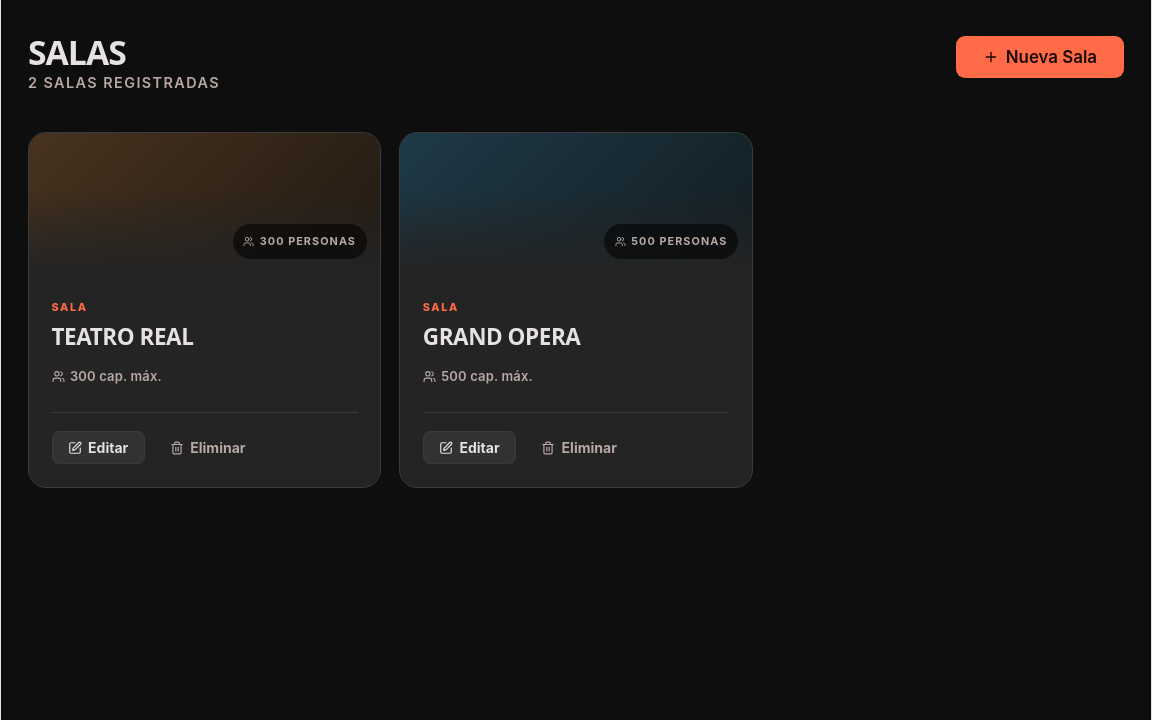
Test case: RoomsAdminPage › shows delete confirmation when delete button is clicked
Click the button titled "Eliminar sala" below "Teatro Real" at point(208, 448), box [154,431,262,464]
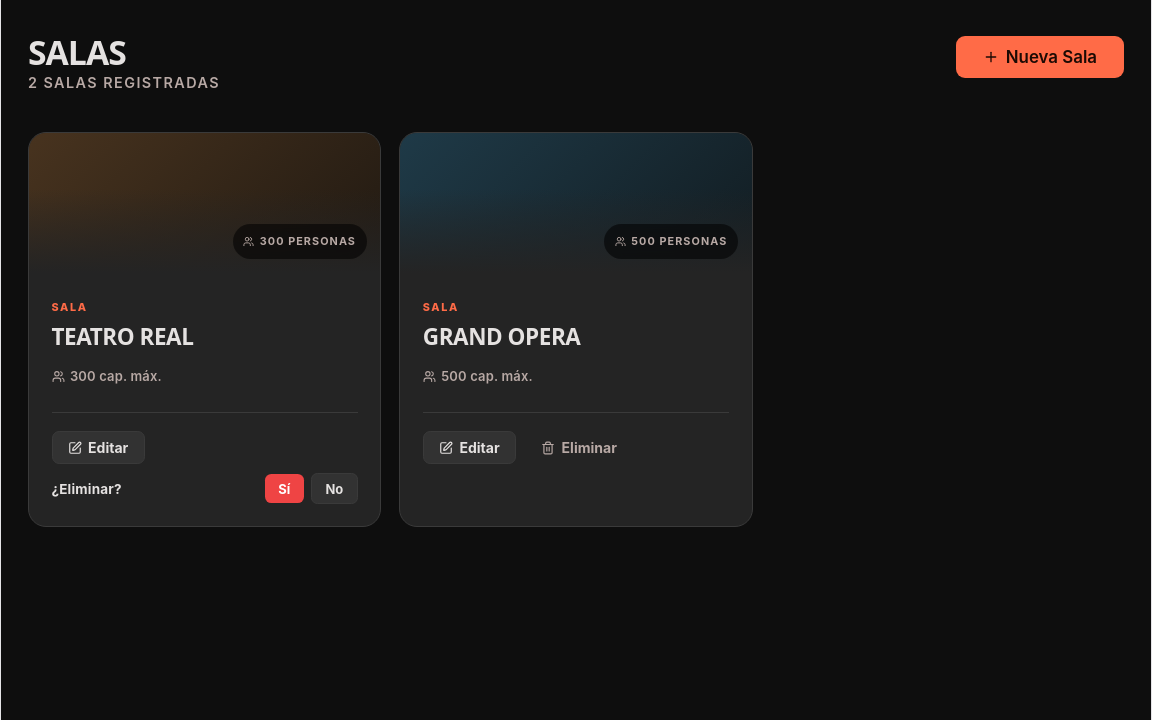
Now the text "¿Eliminar?" is shown, box [52,480,122,496]
Now the button "Sí" is shown, box [265,474,304,503]
Now the button "No" is shown, box [311,473,358,504]
